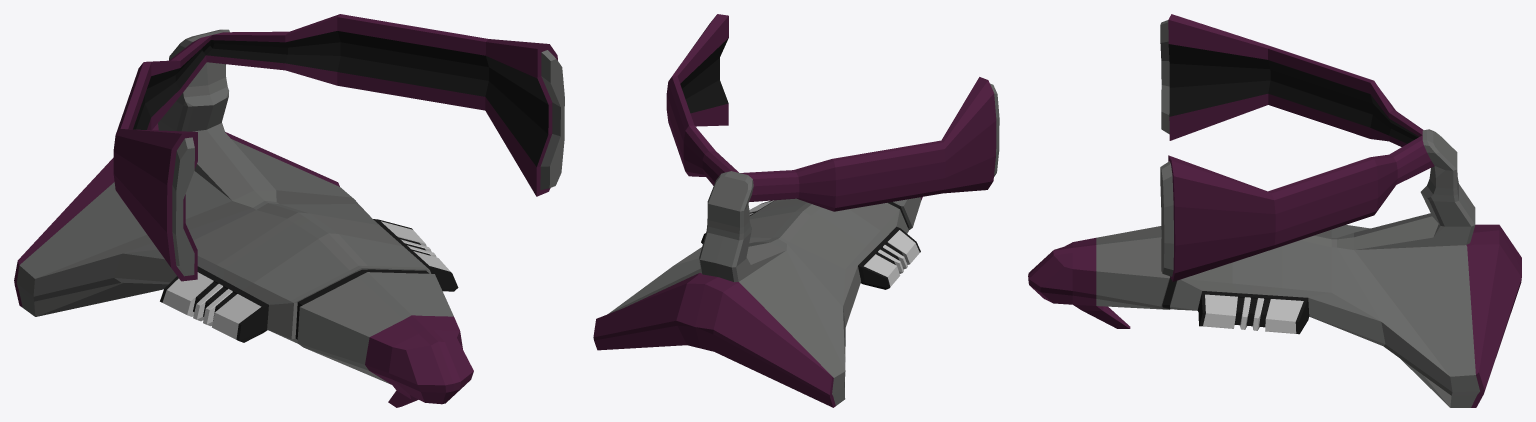
Rendered from Enemy_01.fbx.
3 views of the same model, side by side, from view 1: azimuth 30°, elevation 25°; view 2: azimuth 150°, elevation 25°; view 3: azimuth 270°, elevation 25° (orthographic). The views are drawn at different scales.
Parts seen in each view (by area): view 1: Ship_01_OG.001; view 2: Ship_01_OG.001; view 3: Ship_01_OG.001.
Part boxes in pixels (left/top/right/bottom): Ship_01_OG.001: left=14, top=14, right=564, bottom=407; Ship_01_OG.001: left=593, top=14, right=999, bottom=407; Ship_01_OG.001: left=1028, top=14, right=1521, bottom=407.
Size of the model in its own units: 970 by 740 by 1289.
